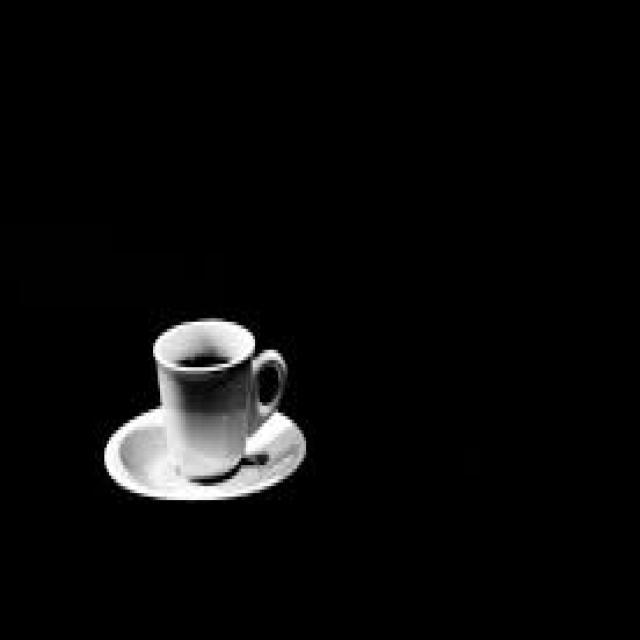taza: (142, 296, 293, 487)
